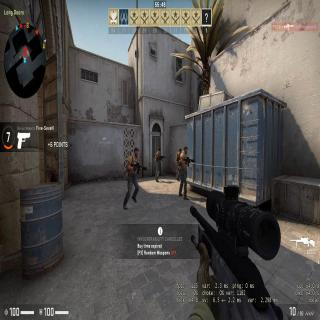T-Body: (125, 147, 139, 206), (180, 146, 192, 200), (155, 147, 163, 182), (175, 147, 180, 181)
T-Head: (134, 147, 138, 156), (184, 146, 188, 154), (158, 148, 160, 154), (179, 148, 181, 153)
